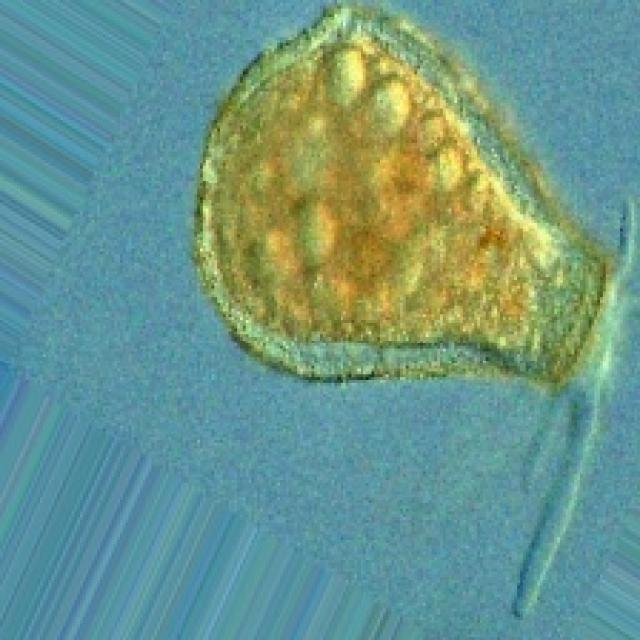Amoeba: (188, 0, 617, 391)
